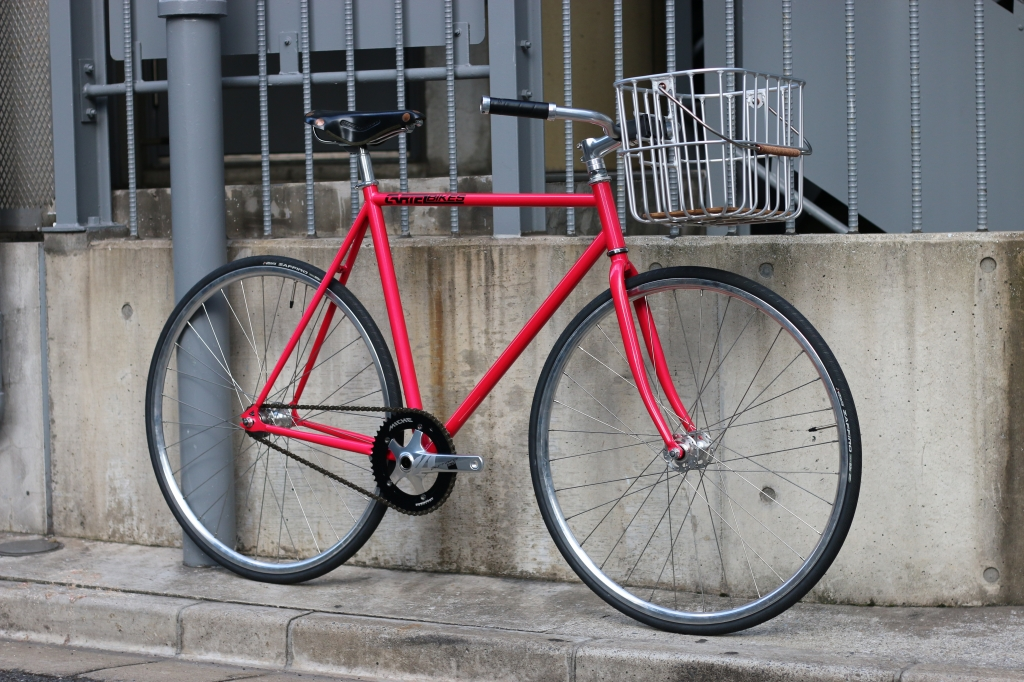bicycle: (138, 67, 869, 644)
